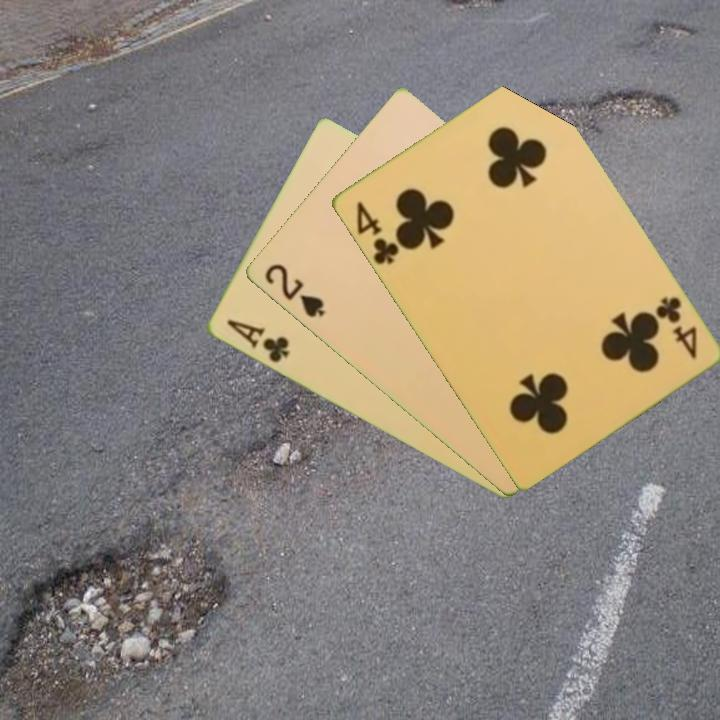2s: (260, 260, 328, 321)
4c: (352, 197, 402, 268), (651, 293, 700, 362)
Ac: (222, 316, 292, 366)
